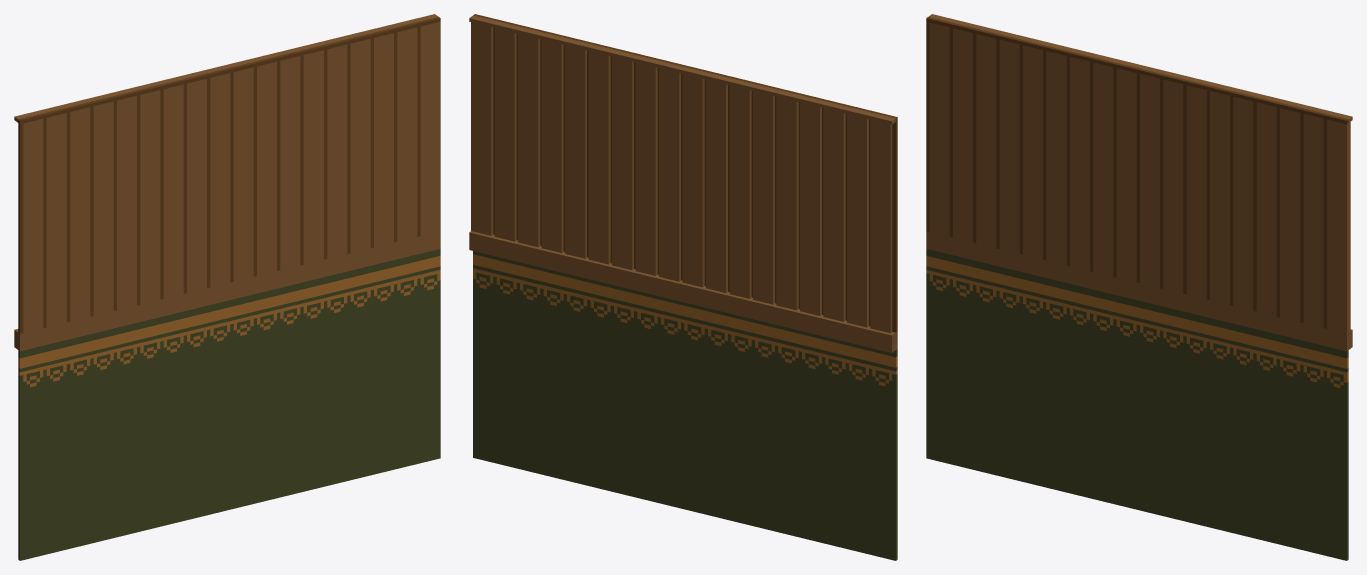
File: cde2.obj
3 renders of one model, left to right at view 1: azimuth 30°, elevation 25°; view 2: azimuth 150°, elevation 25°; view 3: azimuth 330°, elevation 25°, orthographic.
Size of the model in its own units: 126 by 126 by 3.
Materials: 1 (1 with a texture image).
